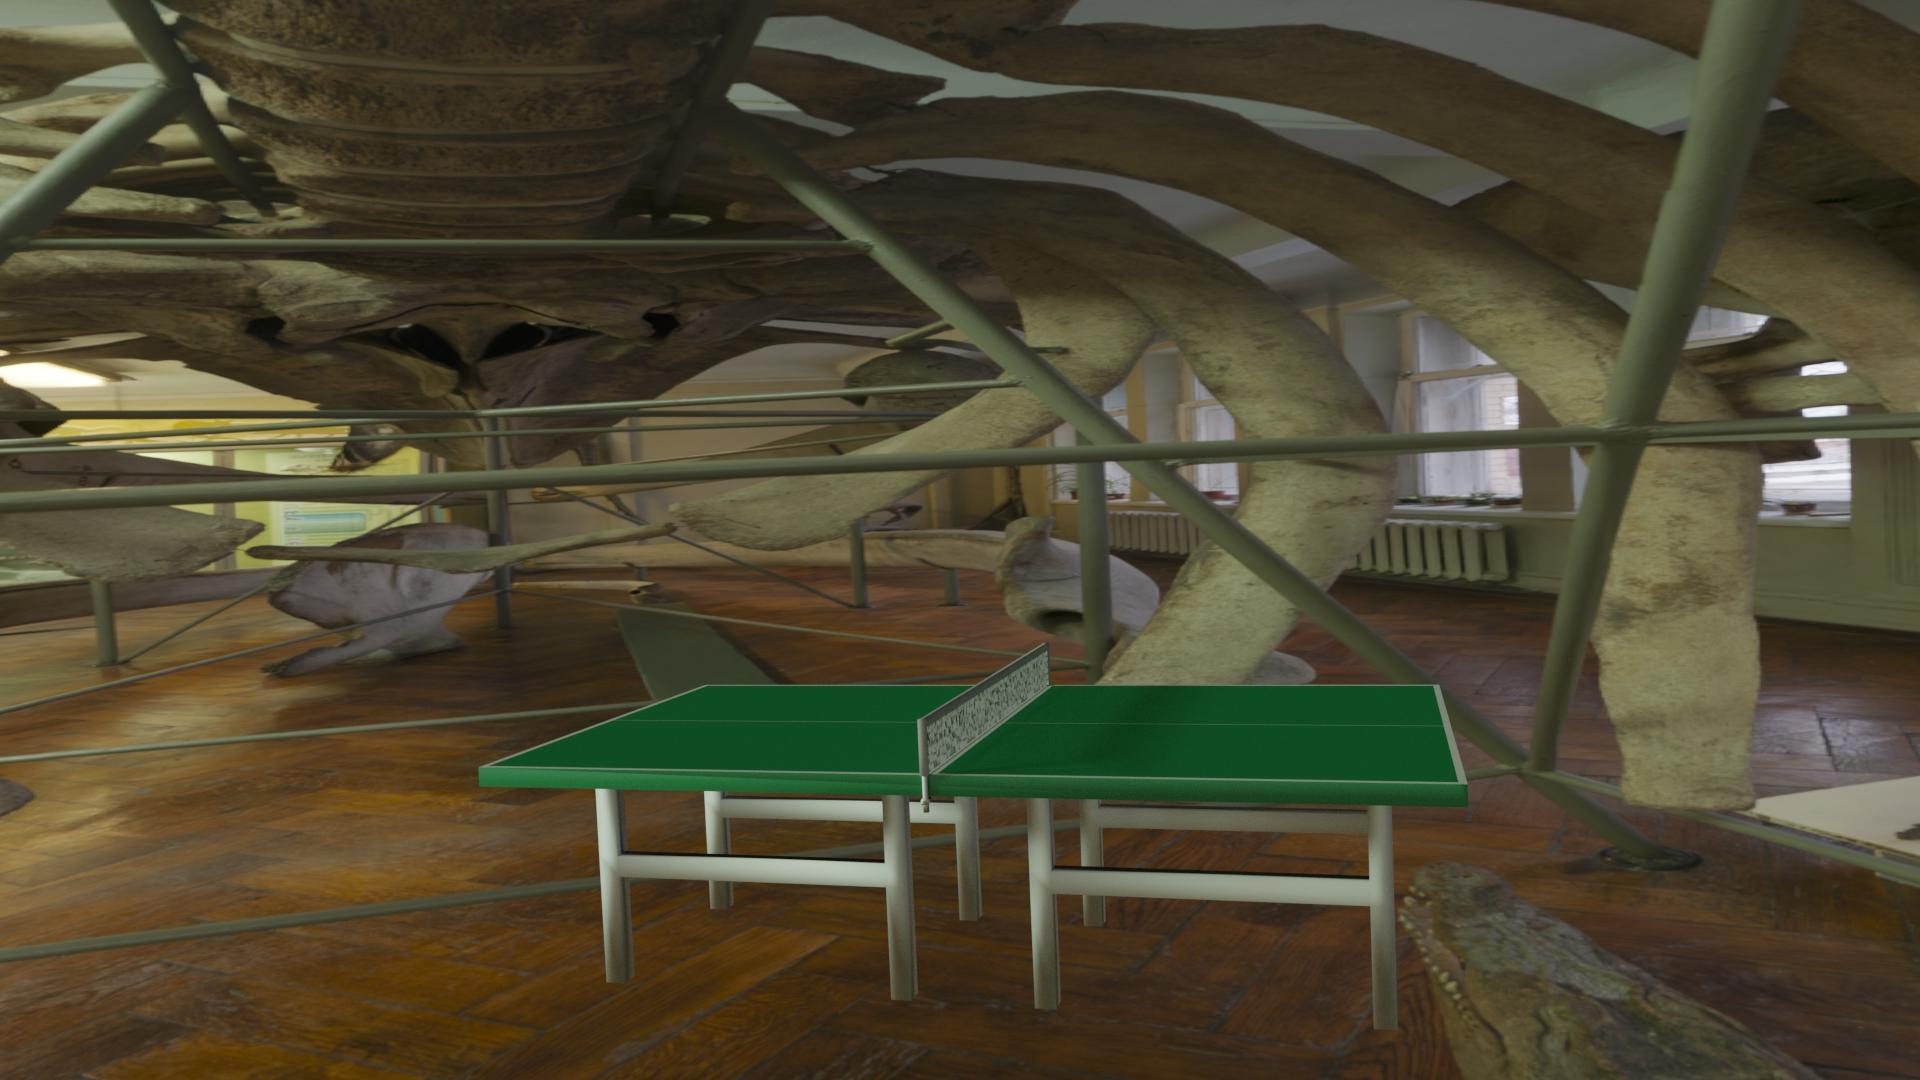table: (488, 686, 1458, 782)
